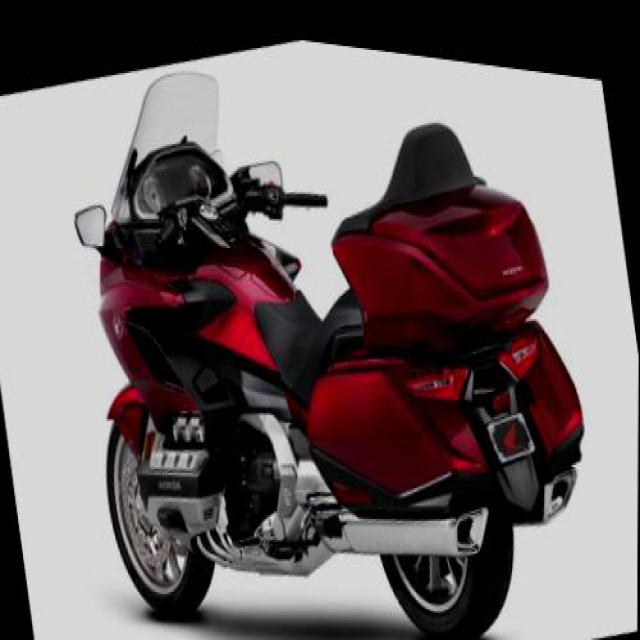Gold Wing: (45, 4, 618, 638)
